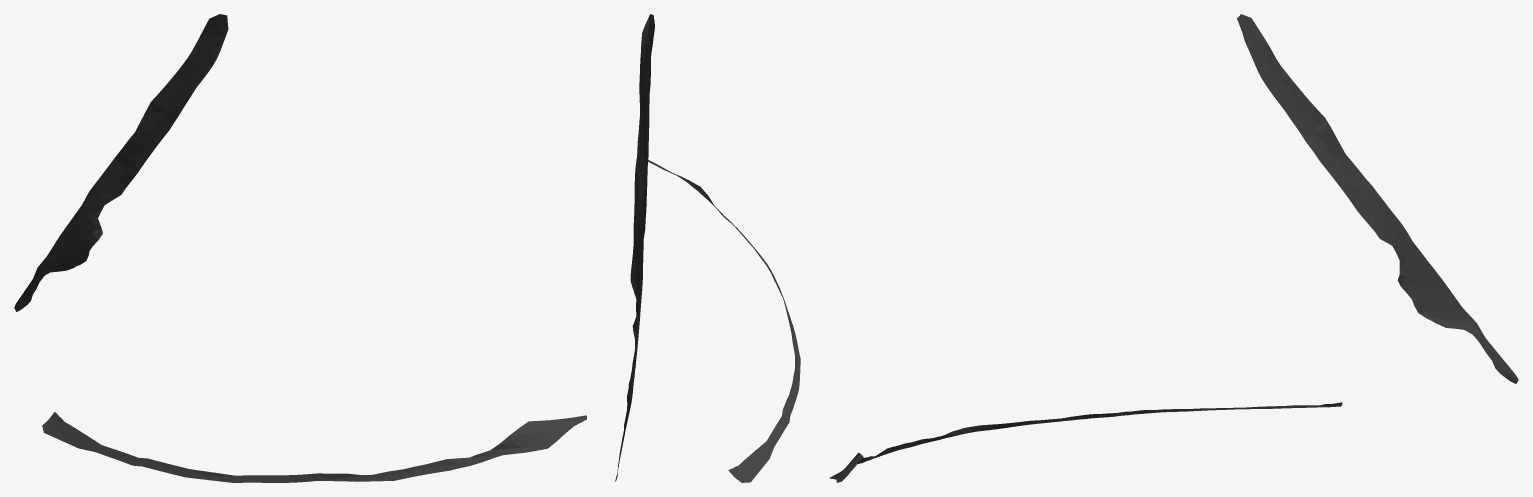
File: eq_dist_limb_White_Zone.glb
3 renders of one model, left to right at view 1: azimuth 30°, elevation 25°; view 2: azimuth 150°, elevation 25°; view 3: azimuth 270°, elevation 25°, orthographic. The views are drawn at different scales.
Visible parts, largest first — view 1: eq_dist_limb_White_Zone; view 2: eq_dist_limb_White_Zone; view 3: eq_dist_limb_White_Zone.
Part boxes in pixels (left/top/right/bottom): eq_dist_limb_White_Zone: left=14, top=14, right=586, bottom=482; eq_dist_limb_White_Zone: left=615, top=14, right=800, bottom=482; eq_dist_limb_White_Zone: left=829, top=14, right=1518, bottom=482.
Size of the model in its own units: 0.0095 by 0.0114 by 0.0152.
Materials: 1 (1 with a texture image).
